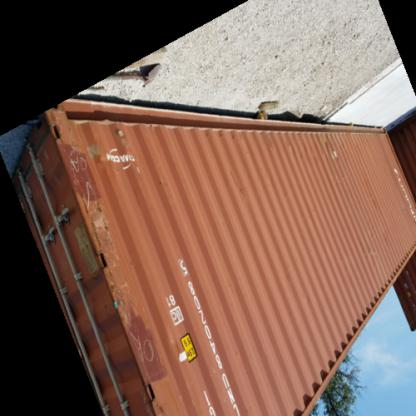Damage: (52, 118, 122, 268), (108, 274, 168, 378), (326, 141, 348, 174), (358, 251, 386, 266)
